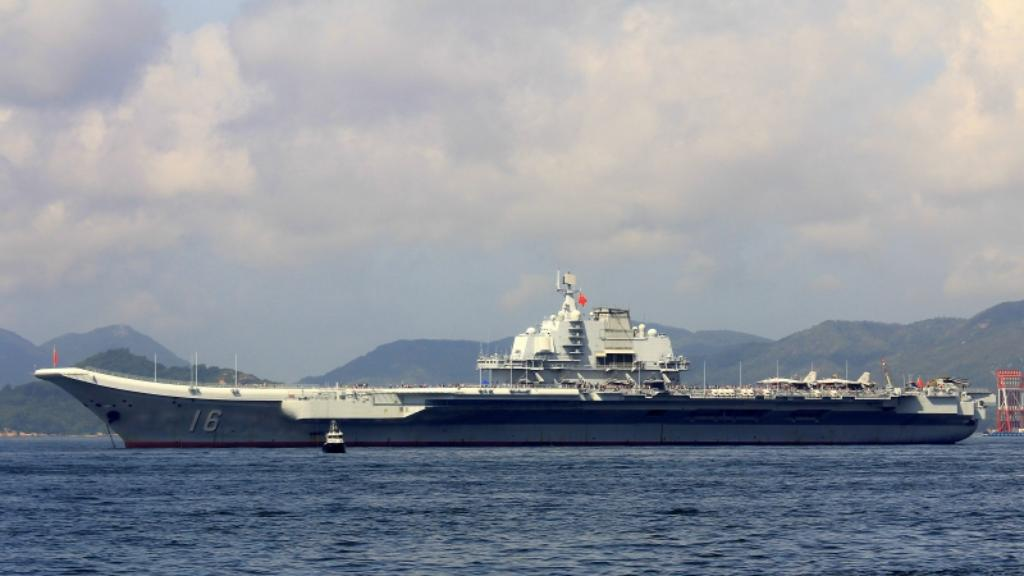Warship: (30, 260, 984, 458)
